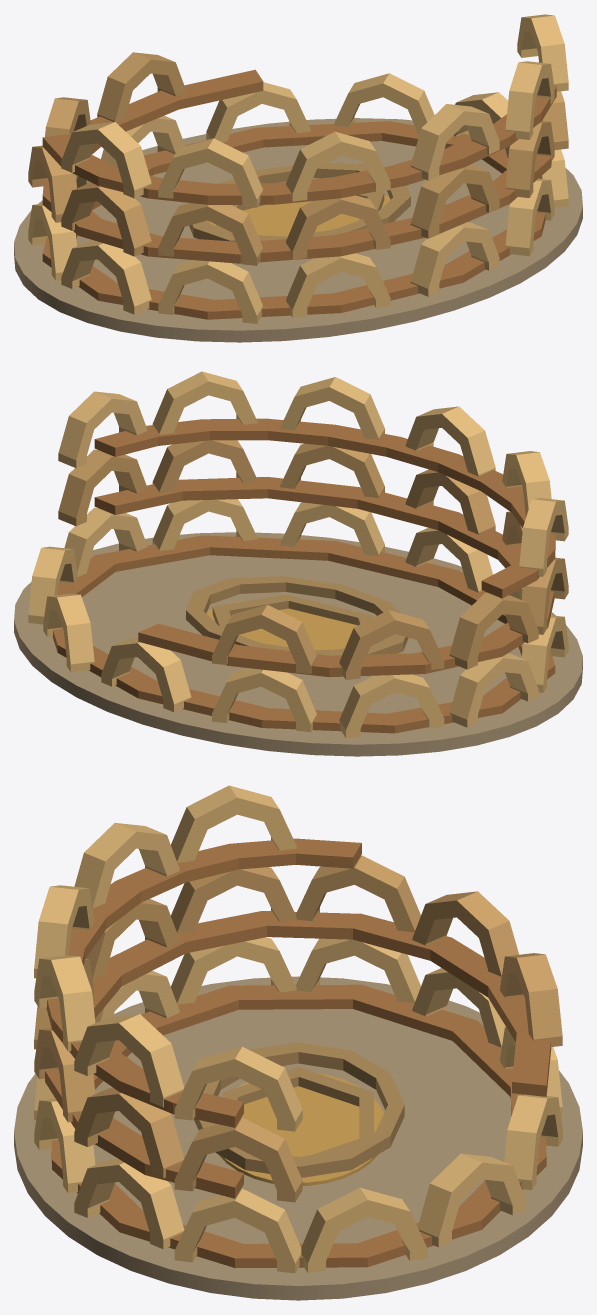
The model's file is colosseum.glb.
The picture shows the model from 3 angles, top to bottom: view 1: azimuth 30°, elevation 25°; view 2: azimuth 150°, elevation 25°; view 3: azimuth 270°, elevation 25°; orthographic projection. The views are drawn at different scales.
Visible parts, largest first — view 1: body_DACAAB, body_BBA982, base_B6AE97, body_C9B993, interior_AD9F80, arena_B59A71; view 2: body_DACAAB, body_BBA982, base_B6AE97, body_C9B993, interior_AD9F80, arena_B59A71; view 3: body_DACAAB, base_B6AE97, body_BBA982, body_C9B993, interior_AD9F80, arena_B59A71.
Boxes of the visible parts, x1,y1,x2,y2 form: body_DACAAB: (28,14,568,323); body_BBA982: (42,69,556,319); base_B6AE97: (14,118,582,342); body_C9B993: (28,52,568,265); interior_AD9F80: (189,162,410,241); arena_B59A71: (209,194,394,236); body_DACAAB: (28,371,568,738); body_BBA982: (52,418,555,733); base_B6AE97: (14,532,582,756); body_C9B993: (58,440,568,679); interior_AD9F80: (186,576,408,655); arena_B59A71: (206,601,357,650); body_DACAAB: (34,785,562,1273); base_B6AE97: (14,976,582,1300); body_BBA982: (45,838,551,1268); body_C9B993: (34,855,562,1202); interior_AD9F80: (193,1042,404,1177); arena_B59A71: (218,1073,383,1185).
Size of the model in its own units: 1 by 0.3374 by 0.7767.
